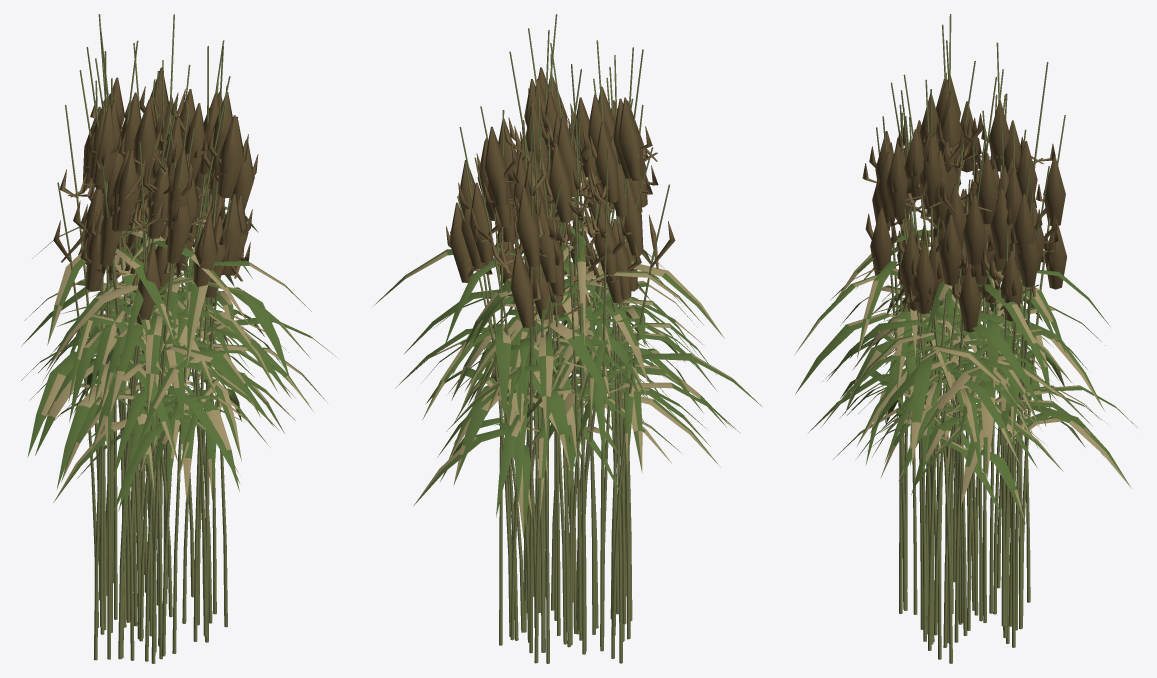
The model's file is vegetation_05.glb.
The picture shows the model from 3 angles, left to right: view 1: azimuth 30°, elevation 25°; view 2: azimuth 150°, elevation 25°; view 3: azimuth 270°, elevation 25°; orthographic projection. The views are drawn at different scales.
Visible parts, largest first — view 1: prototype_046, prototype_045, prototype_047, prototype_042, prototype_040, prototype_041, prototype_043, prototype_044; view 2: prototype_046, prototype_042, prototype_043, prototype_044, prototype_040, prototype_047, prototype_045, prototype_041; view 3: prototype_045, prototype_047, prototype_041, prototype_043, prototype_044, prototype_040, prototype_042, prototype_046.
Boxes of the visible parts, <box> form: prototype_046: <box>27,40,270,660</box>; prototype_045: <box>46,46,291,663</box>; prototype_047: <box>21,64,338,656</box>; prototype_042: <box>24,14,277,659</box>; prototype_040: <box>35,40,258,653</box>; prototype_041: <box>84,58,311,639</box>; prototype_043: <box>43,31,314,652</box>; prototype_044: <box>21,14,327,659</box>; prototype_046: <box>413,40,762,663</box>; prototype_042: <box>461,47,716,663</box>; prototype_043: <box>422,53,716,663</box>; prototype_044: <box>453,30,680,644</box>; prototype_040: <box>374,28,726,647</box>; prototype_047: <box>433,43,685,652</box>; prototype_045: <box>396,14,724,651</box>; prototype_041: <box>421,78,731,645</box>; prototype_045: <box>849,74,1104,663</box>; prototype_047: <box>795,105,1072,641</box>; prototype_041: <box>840,69,1058,647</box>; prototype_043: <box>822,42,1110,647</box>; prototype_044: <box>794,61,1137,659</box>; prototype_040: <box>808,89,1104,642</box>; prototype_042: <box>833,24,1105,627</box>; prototype_046: <box>852,14,1131,622</box>.
Bounding box in the file's own units: 1.79 × 3.26 × 1.74.
